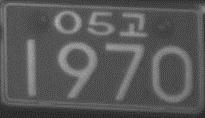0: (150, 44, 195, 103), (53, 9, 82, 35)
1: (15, 38, 49, 97)
5: (87, 10, 115, 36)
7: (104, 42, 145, 102)
9: (57, 40, 98, 99)
고: (118, 11, 148, 38)
